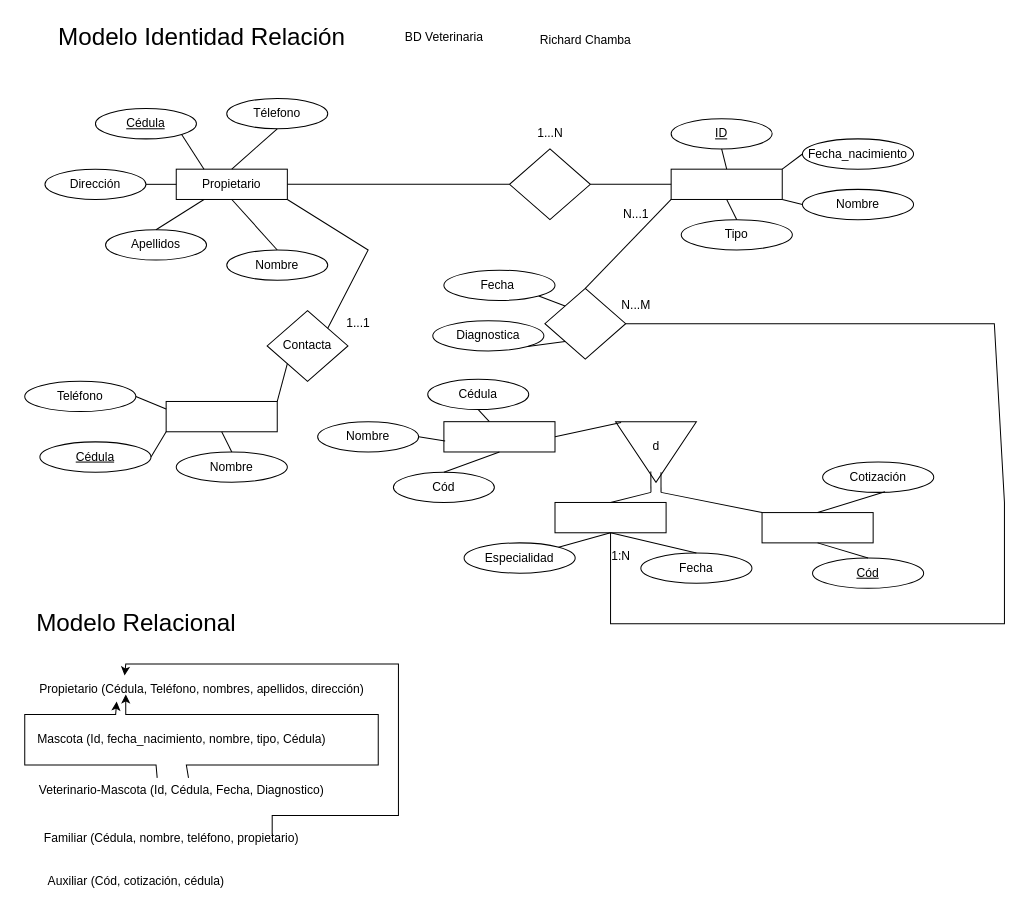
Some shapes in this 1023 by 913 pixel diagram are drawn without their labels. Here are the shapes that lost their labels. From the top down, the centre of each, then its label:
the point at 549,184: Llevar
the point at 726,183: Mascota
the point at 585,323: Consulta
the point at 221,416: Familiar
the point at 499,436: Personal
the point at 610,517: Veterinario
the point at 817,527: Auxiliar
